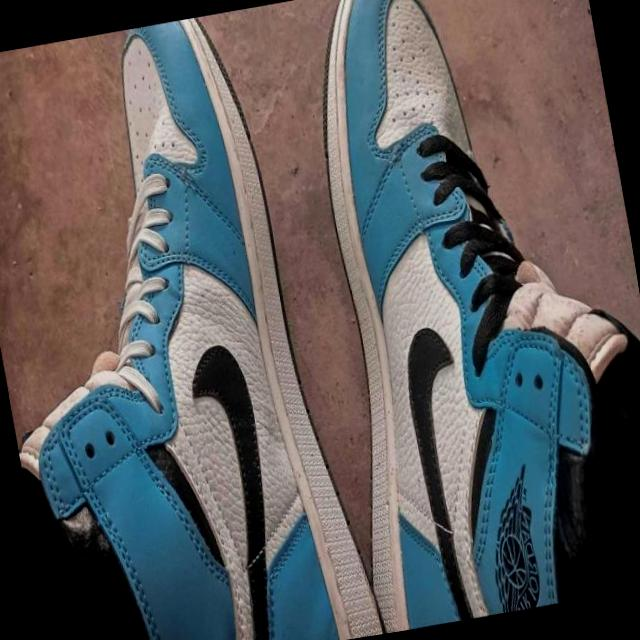nike_fake_jordan: (0, 1, 386, 640), (269, 0, 640, 635)
